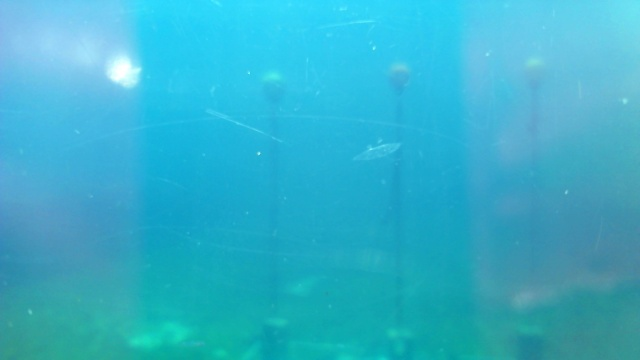buoy_green: (261, 70, 287, 106)
buoy_red: (388, 64, 412, 95)
